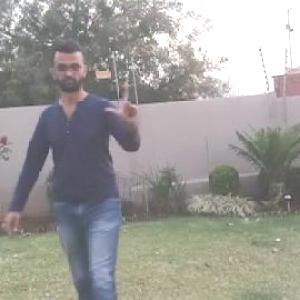land_hand: (102, 78, 143, 120)
